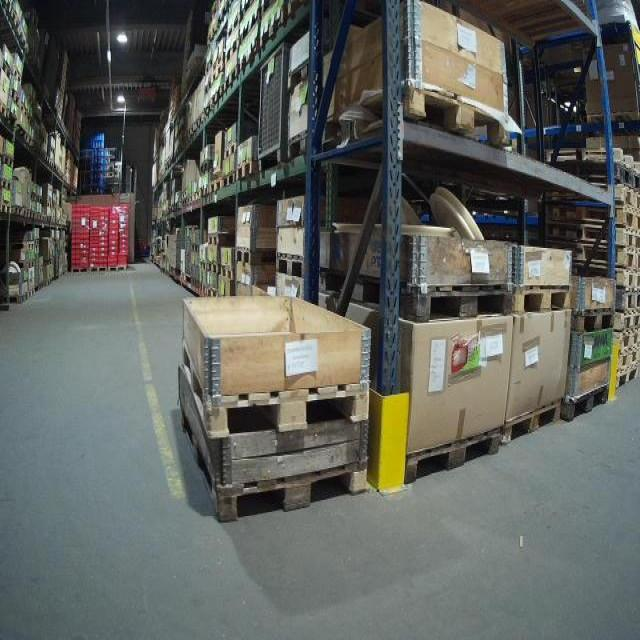pallet: (179, 394, 363, 524), (180, 336, 370, 442), (323, 73, 513, 152), (319, 264, 513, 326), (401, 425, 499, 491), (499, 392, 563, 451), (553, 202, 640, 233), (548, 225, 638, 253), (561, 379, 612, 423), (512, 282, 572, 317), (566, 247, 640, 272), (568, 306, 618, 338), (577, 267, 638, 287), (260, 6, 286, 49), (275, 251, 305, 281), (235, 246, 276, 266), (613, 185, 640, 211), (240, 6, 260, 41), (616, 363, 639, 390), (240, 37, 258, 71), (236, 158, 259, 183), (615, 167, 637, 187), (223, 65, 238, 93), (618, 333, 638, 354), (620, 290, 640, 311), (287, 0, 312, 16), (226, 12, 242, 37), (617, 348, 636, 369), (224, 38, 239, 64), (618, 312, 636, 333), (208, 233, 235, 246), (216, 4, 228, 31), (209, 62, 223, 85), (222, 141, 238, 160), (210, 85, 222, 109), (222, 171, 237, 189), (209, 176, 223, 194), (212, 51, 224, 72), (220, 265, 235, 281), (0, 60, 11, 81), (8, 88, 20, 107), (206, 260, 220, 276), (206, 23, 216, 45), (12, 67, 23, 85), (107, 265, 127, 273), (70, 267, 89, 275), (200, 160, 210, 175), (89, 266, 107, 274), (0, 179, 12, 191), (206, 286, 218, 298), (3, 154, 14, 167), (195, 115, 204, 130), (199, 186, 209, 199), (0, 101, 7, 118), (24, 133, 32, 147), (12, 206, 23, 216), (0, 204, 12, 213), (25, 243, 35, 251), (27, 259, 35, 269), (23, 209, 30, 218), (182, 189, 187, 199), (29, 212, 36, 218)
stillage: (251, 39, 291, 177)
